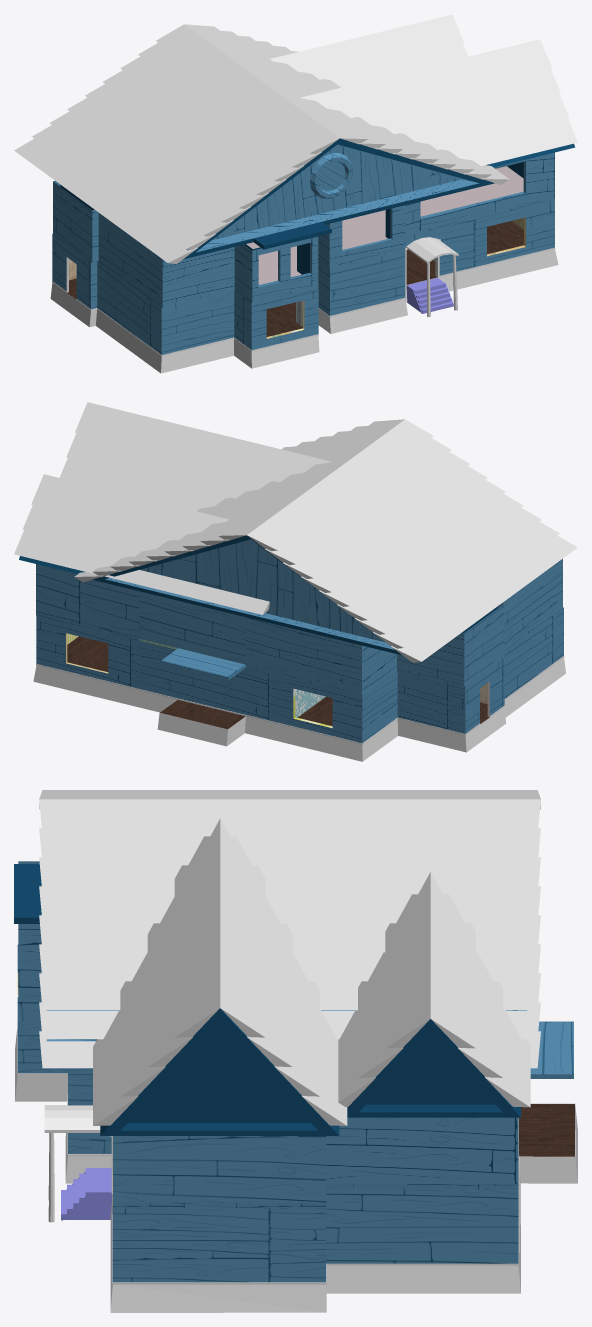
3 renders of one model, top to bottom at view 1: azimuth 30°, elevation 25°; view 2: azimuth 150°, elevation 25°; view 3: azimuth 270°, elevation 25°, orthographic. The views are drawn at different scales.
Visible parts, largest first — view 1: map_roof, map_floor_1_roof, map_floor_1.001, map_floor_1, map_floor_1.002, map_floor_1.005, map_floor_1.003; view 2: map_roof, map_floor_1_roof, map_floor_1.001, map_floor_1, map_floor_1.002, map_floor_1.003; view 3: map_roof, map_floor_1.001, map_floor_1_roof, map_floor_1, map_floor_1.002, map_floor_1.005.
Part boxes in pixels (bbox=[...]): map_roof: bbox=[14, 14, 577, 263]; map_floor_1_roof: bbox=[53, 152, 554, 307]; map_floor_1.001: bbox=[52, 200, 554, 354]; map_floor_1: bbox=[50, 237, 558, 373]; map_floor_1.002: bbox=[67, 221, 523, 336]; map_floor_1.005: bbox=[406, 277, 453, 313]; map_floor_1.003: bbox=[66, 217, 525, 338]; map_roof: bbox=[14, 402, 577, 662]; map_floor_1_roof: bbox=[36, 559, 562, 695]; map_floor_1.001: bbox=[36, 607, 563, 743]; map_floor_1: bbox=[33, 656, 565, 761]; map_floor_1.002: bbox=[67, 636, 489, 729]; map_floor_1.003: bbox=[66, 633, 489, 727]; map_roof: bbox=[14, 790, 540, 1135]; map_floor_1.001: bbox=[17, 945, 518, 1282]; map_floor_1_roof: bbox=[18, 861, 573, 1207]; map_floor_1: bbox=[15, 1021, 577, 1312]; map_floor_1.002: bbox=[519, 1104, 574, 1156]; map_floor_1.005: bbox=[61, 1168, 112, 1220].
Size of the model in its own units: 27.84 by 12.55 by 19.57.
9 materials, 5 textured.
